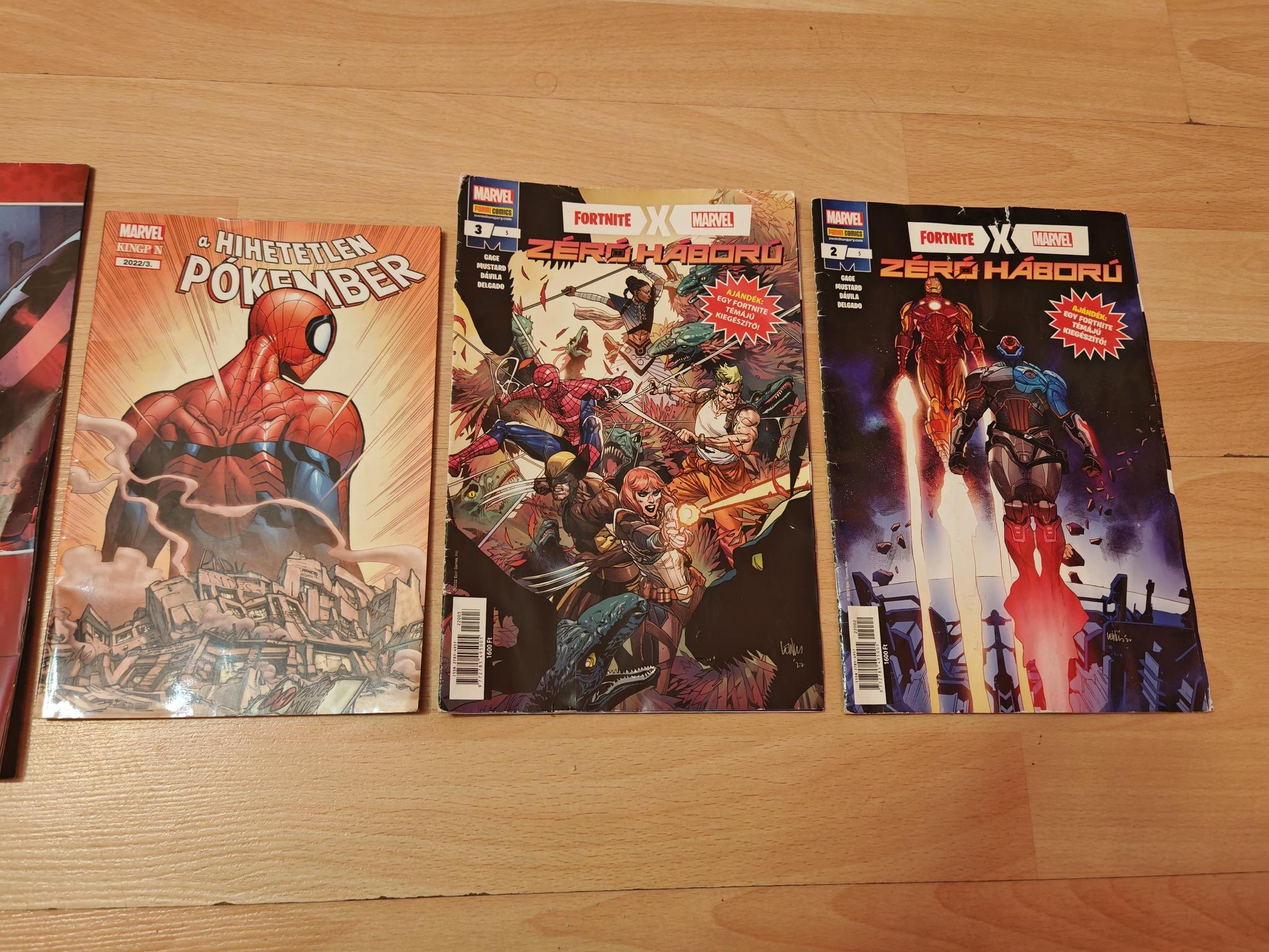comic: (806, 172, 1210, 738), (439, 175, 835, 721), (43, 211, 439, 725)
